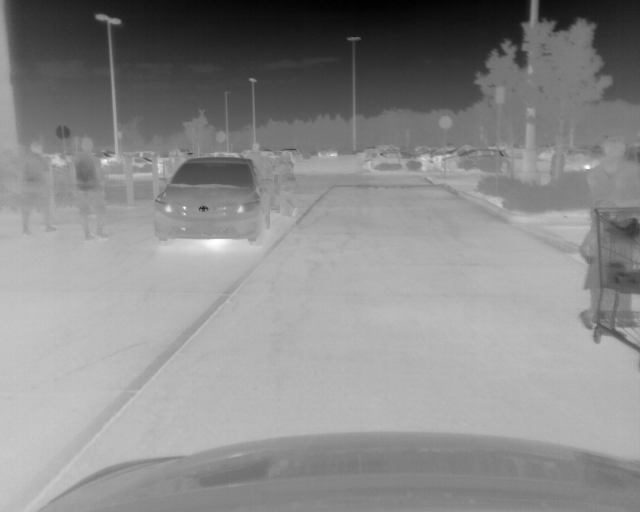car: (153, 157, 265, 247), (442, 147, 511, 174), (371, 150, 432, 172), (318, 146, 337, 157)
people: (583, 128, 636, 340), (578, 203, 621, 343), (17, 140, 62, 234), (73, 136, 112, 243), (246, 141, 272, 222), (274, 150, 299, 218), (549, 147, 566, 181)
